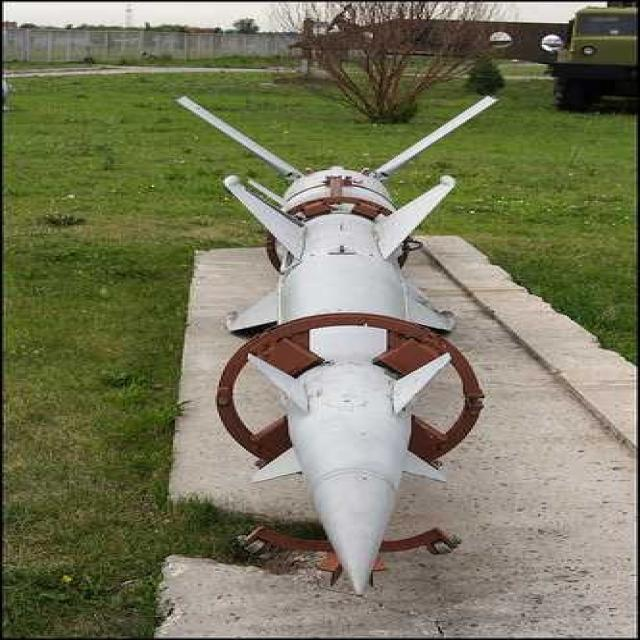missile: (179, 87, 490, 584)
